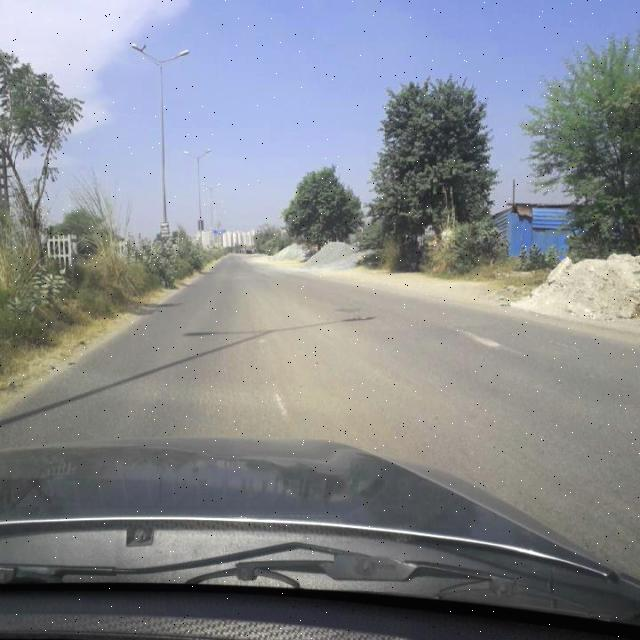D40: (446, 324, 513, 354)
